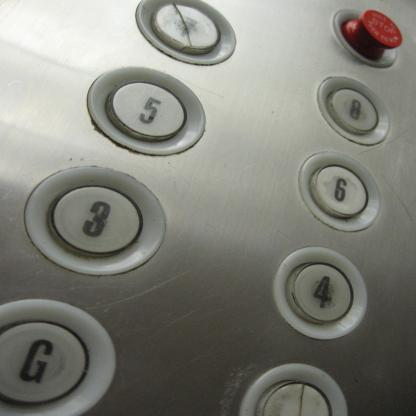3: (18, 162, 169, 280)
4: (269, 245, 372, 343)
5: (83, 65, 209, 159)
6: (295, 150, 384, 234)
8: (313, 74, 394, 148)
G: (0, 296, 122, 416)
empty: (132, 0, 240, 68)
text_stop: (330, 5, 407, 70)
